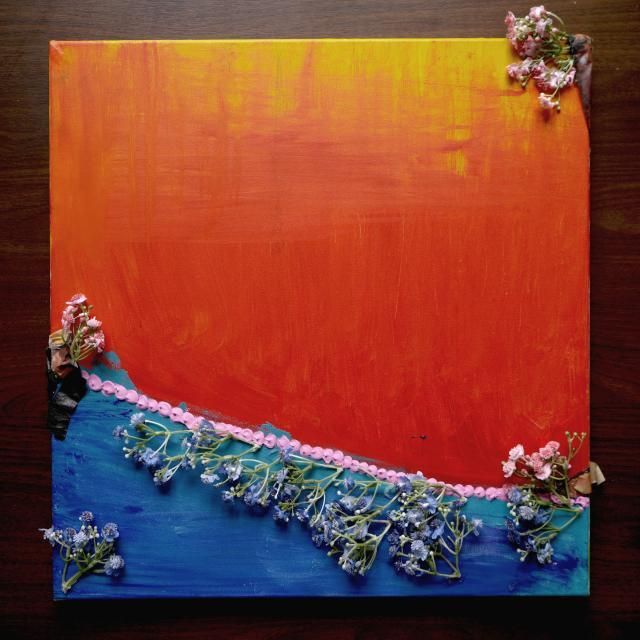painting: (50, 34, 590, 599)
